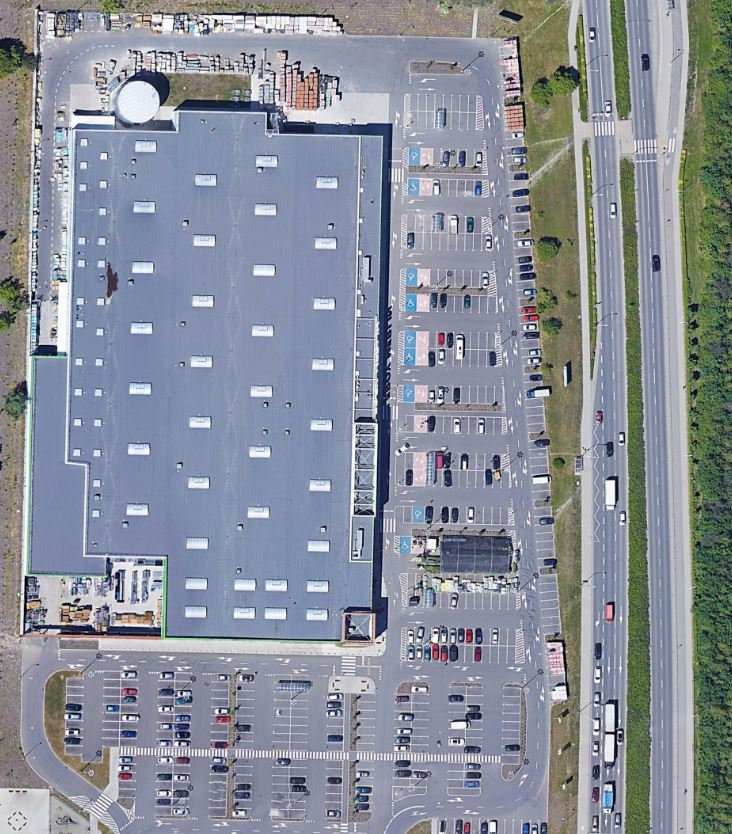shopping_center: (11, 65, 425, 651)
